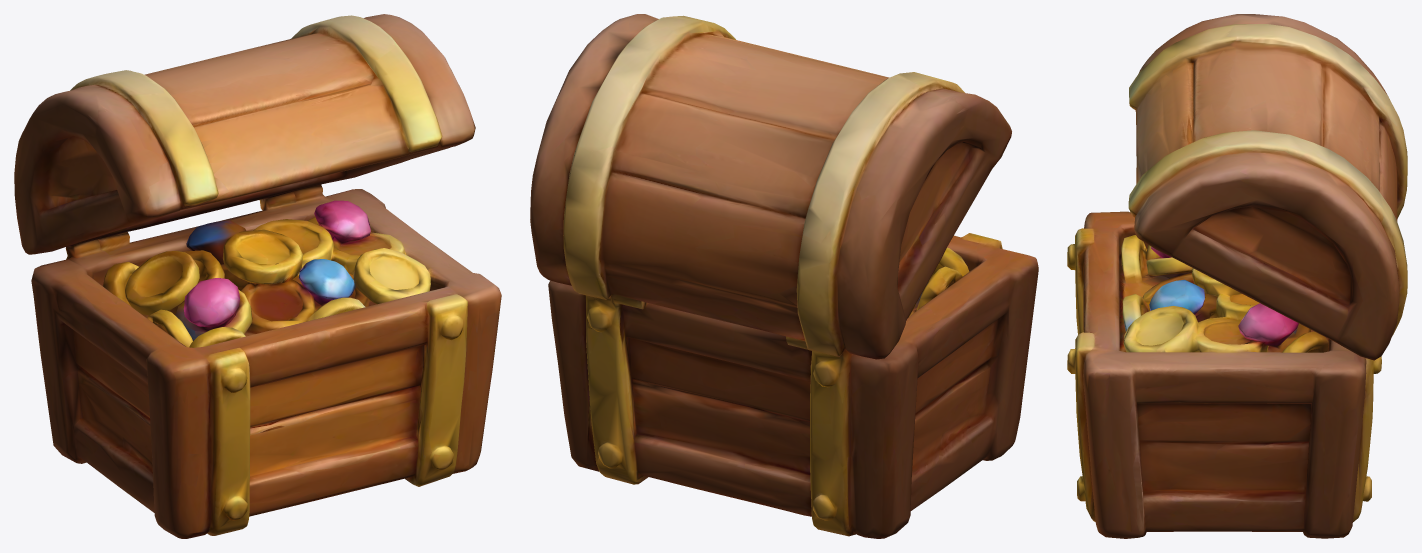
Rendered from chest-open.glb.
The picture shows the model from 3 angles, left to right: view 1: azimuth 30°, elevation 25°; view 2: azimuth 150°, elevation 25°; view 3: azimuth 270°, elevation 25°; orthographic projection. The views are drawn at different scales.
Parts seen in each view (by area): view 1: tripo_node_65e8f828-01e8-4d10-974c-4f2cd06f3064; view 2: tripo_node_65e8f828-01e8-4d10-974c-4f2cd06f3064; view 3: tripo_node_65e8f828-01e8-4d10-974c-4f2cd06f3064.
Part boxes in pixels (bbox=[...]): tripo_node_65e8f828-01e8-4d10-974c-4f2cd06f3064: bbox=[14, 14, 501, 538]; tripo_node_65e8f828-01e8-4d10-974c-4f2cd06f3064: bbox=[530, 14, 1038, 538]; tripo_node_65e8f828-01e8-4d10-974c-4f2cd06f3064: bbox=[1067, 14, 1407, 538].
Bounding box in the file's own units: 0.8885 × 0.9998 × 0.7911.
1 material, 1 textured.
